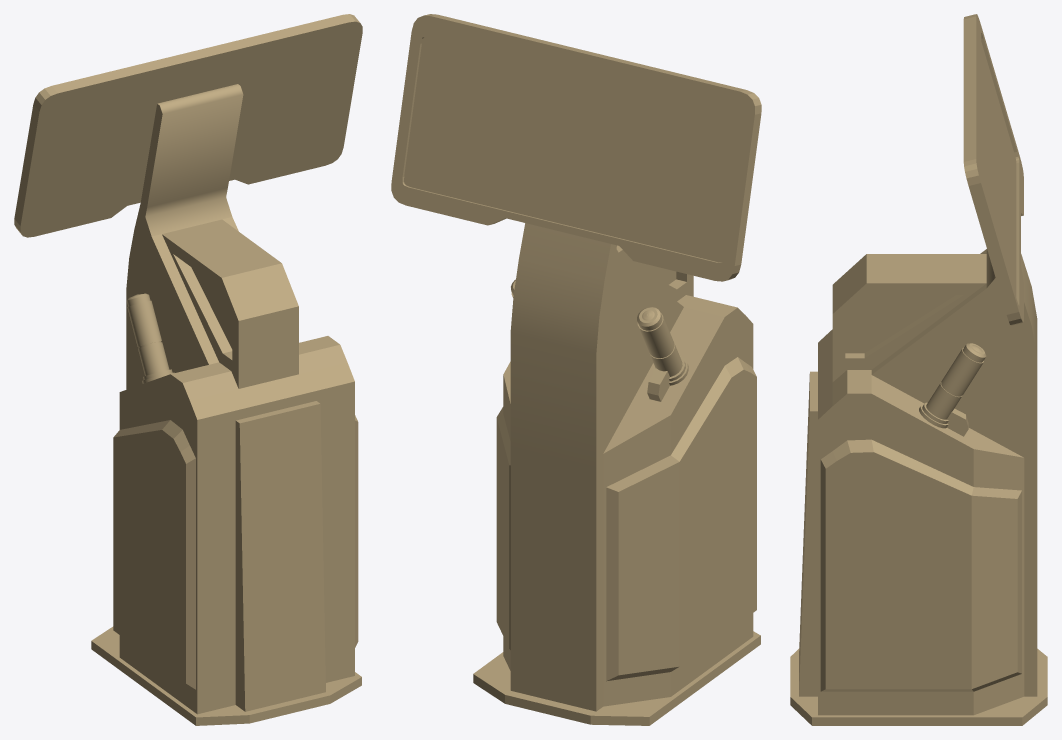
The model's file is Terminal.FBX.
3 views of the same model, side by side, from view 1: azimuth 30°, elevation 25°; view 2: azimuth 150°, elevation 25°; view 3: azimuth 270°, elevation 25° (orthographic). The views are drawn at different scales.
Visible parts, largest first — view 1: Terminal; view 2: Terminal; view 3: Terminal.
Boxes of the visible parts, x1,y1,x2,y2 form: Terminal: [14, 14, 362, 725]; Terminal: [391, 14, 761, 725]; Terminal: [790, 14, 1047, 725].
Bounding box in the file's own units: 1.6 × 2.82 × 1.1.
